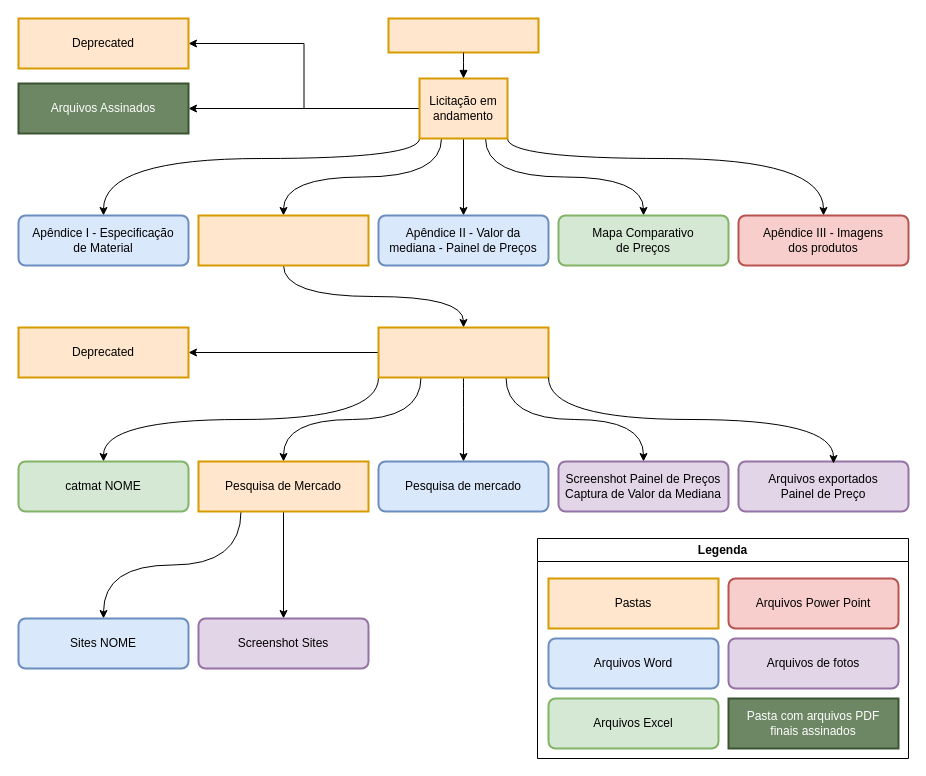
The diagram is 926 pixels wide and 776 high, and some of its shapes have lost their labels. The shapes that lost their labels are listed below. From the top down, each one's centre as x and y in pixels, then its label:
At (463,35): "Pasta de Licitações".
At (283,240): "Pesquisa de Preços".
At (463,352): "Item_XX_Nome".
